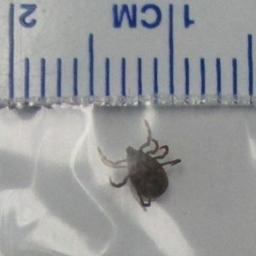Rhipicephalus sanguineus: (97, 119, 183, 208)
